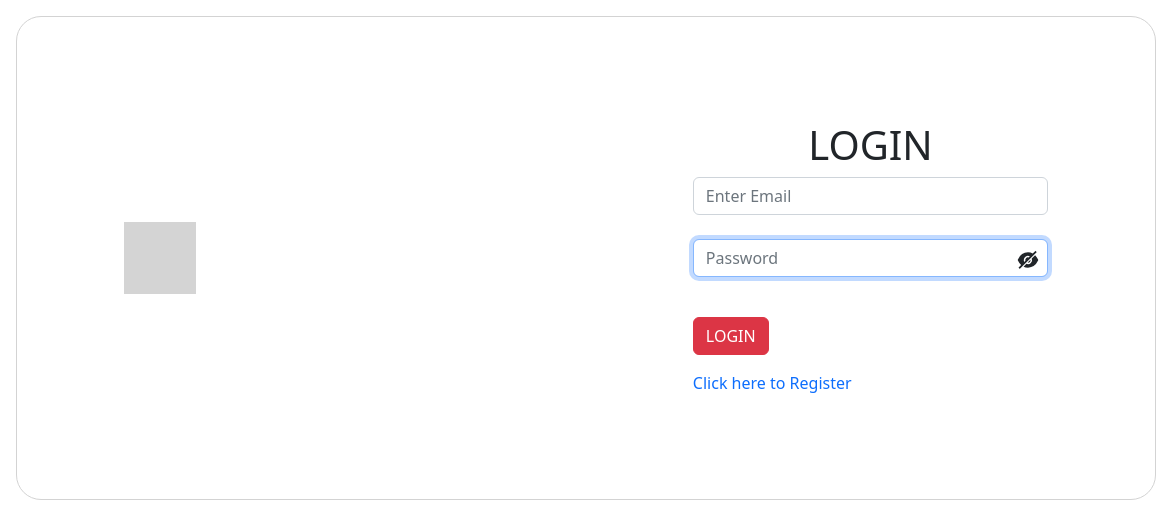
Test case: LoginScreen › with rendering component › should rendering for open and close of eye button
Click the icon with test id "openbutton" at (1028,260), box [1016, 248, 1040, 272]
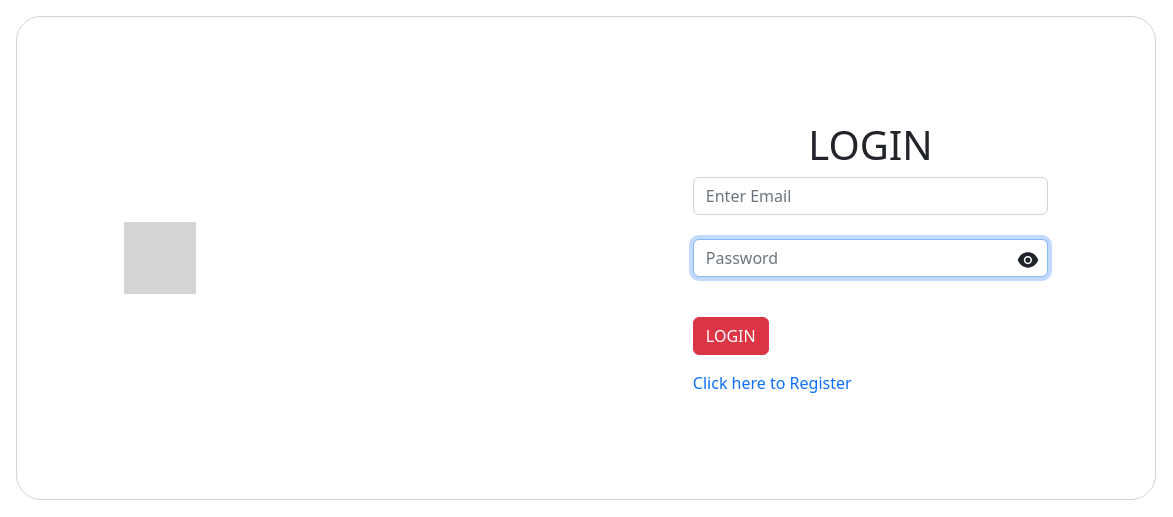
Check: the icon with test id "openbutton" is gone
Check: the icon with test id "closebutton" is shown
Click the icon with test id "closebutton" at (1028,260), box [1016, 248, 1040, 272]
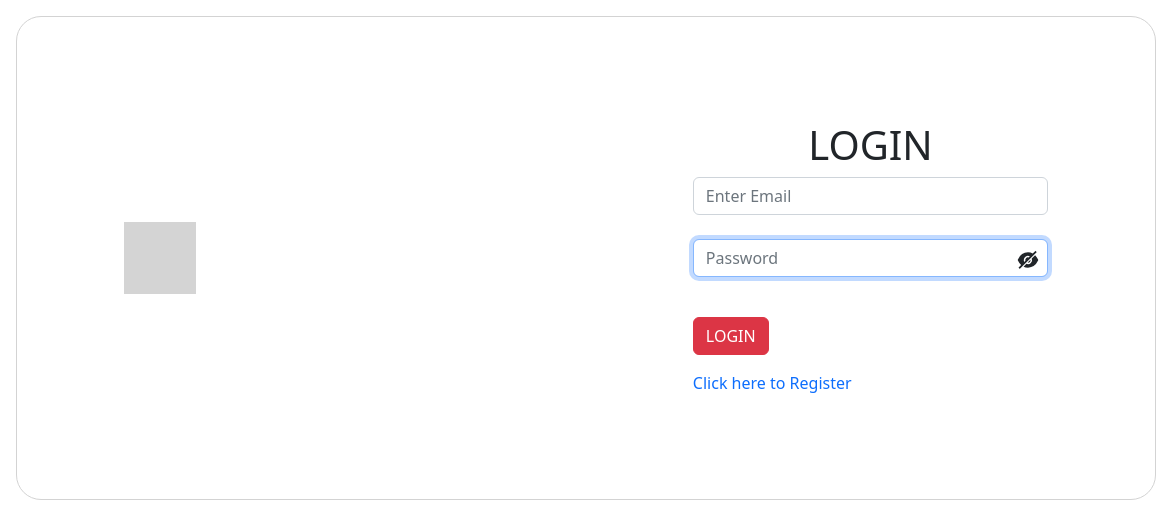
Check: the icon with test id "openbutton" is shown, box [1016, 248, 1040, 272]
Check: the icon with test id "closebutton" is gone
